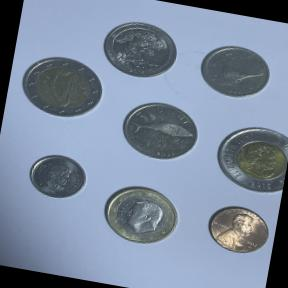1 Euro-B: (93, 176, 190, 255)
2 Euro-B: (14, 47, 110, 126)
Canada-10cent-B: (22, 146, 94, 207)
Canada-2Dollar-B: (206, 115, 288, 204)
Croatia-2Kune-B: (114, 90, 207, 168)
US-1cent-B: (198, 196, 278, 262)
US-25cent-B: (93, 11, 185, 85)
